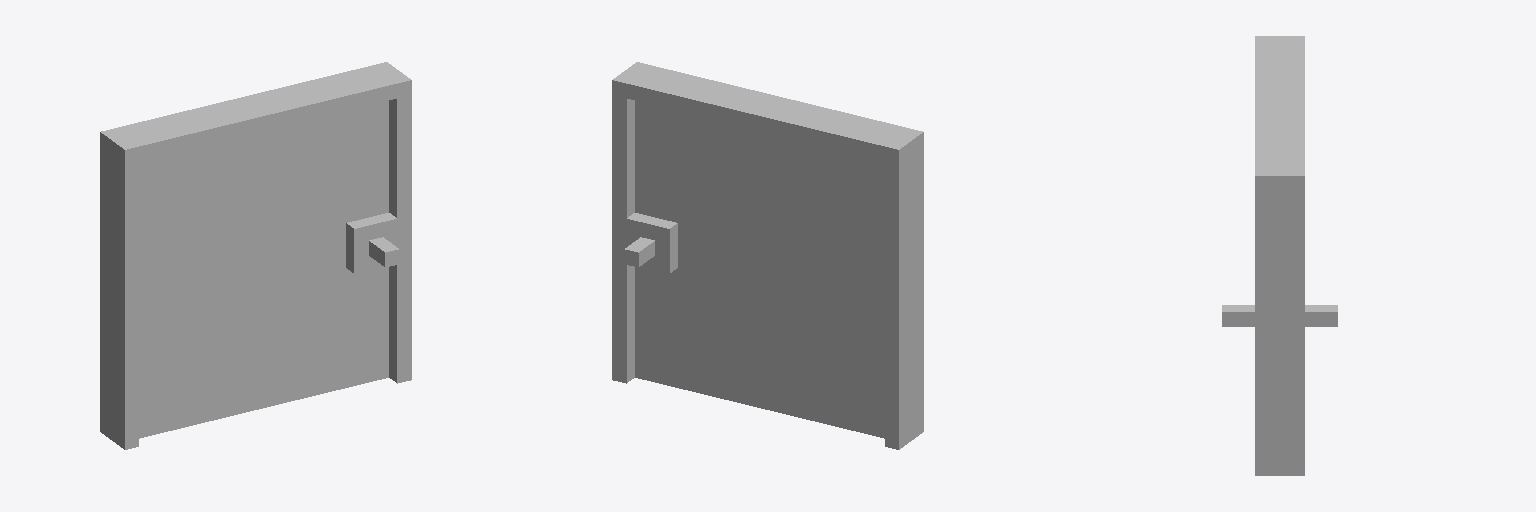
The model's file is door.obj.
3 views of the same model, side by side, from view 1: azimuth 30°, elevation 25°; view 2: azimuth 150°, elevation 25°; view 3: azimuth 270°, elevation 25° (orthographic).
Parts seen in each view (by area): view 1: object 1; view 2: object 1; view 3: object 1.
Boxes of the visible parts, <box> form: object 1: <box>100,62,411,449</box>; object 1: <box>612,62,923,449</box>; object 1: <box>1222,36,1337,475</box>.
Size of the model in its own units: 2 by 2 by 0.7.